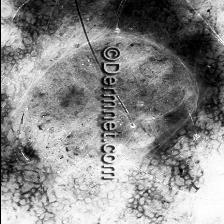Potentially Malignant Skin Tumors: (118, 29, 201, 221)
